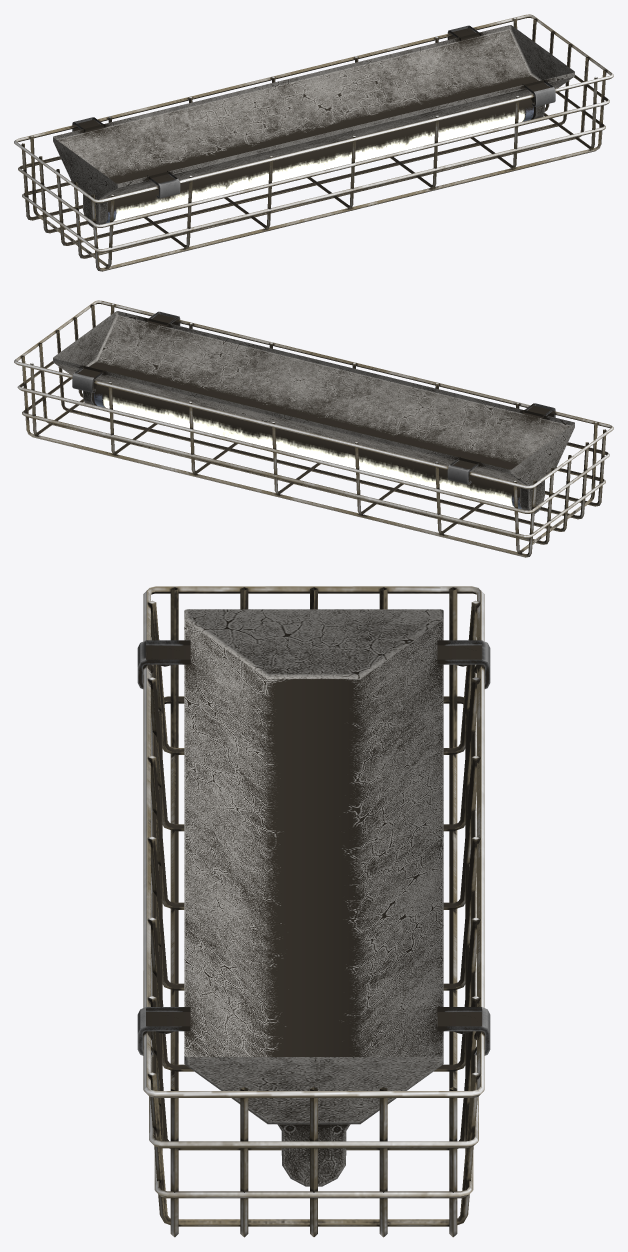
Rendered from lamp.glb.
The picture shows the model from 3 angles, top to bottom: view 1: azimuth 30°, elevation 25°; view 2: azimuth 150°, elevation 25°; view 3: azimuth 270°, elevation 25°; orthographic projection. The views are drawn at different scales.
Parts seen in each view (by area): view 1: 01__0; view 2: 01__0; view 3: 01__0.
Boxes of the visible parts, x1=… form: 01__0: x1=14, y1=14, x2=613, y2=271; 01__0: x1=14, y1=300, x2=613, y2=557; 01__0: x1=137, y1=586, x2=490, y2=1237.
Bounding box in the file's own units: 1.06 × 0.1582 × 0.3099.
1 material, 1 textured.
